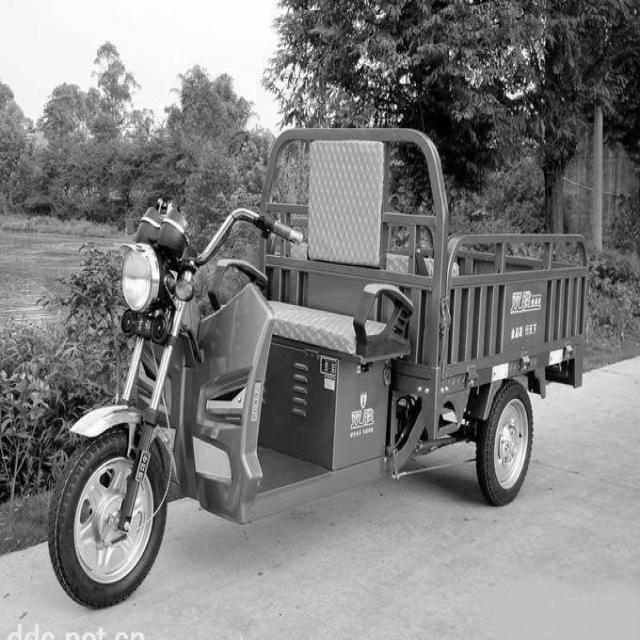tricycle: (46, 127, 588, 607)
